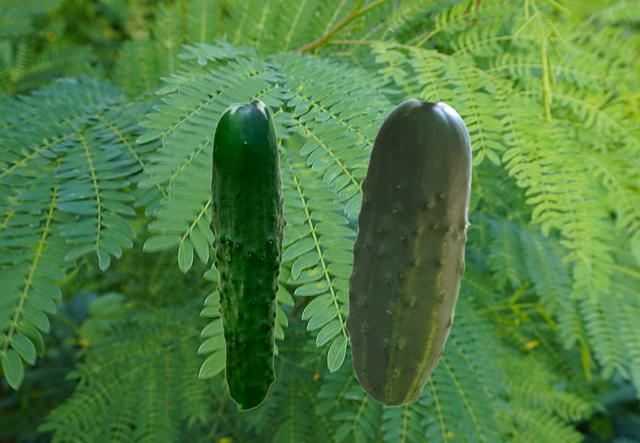cucumber: (345, 98, 471, 406), (208, 98, 286, 410)
